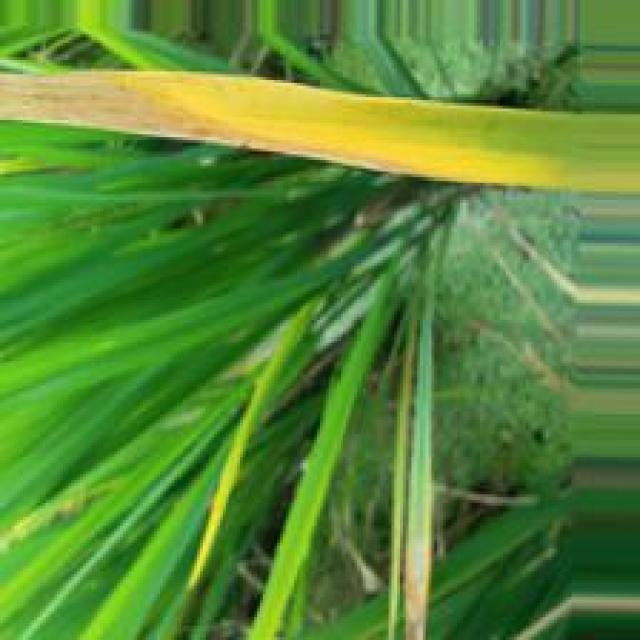Leaf_Scald: (0, 68, 417, 173)
